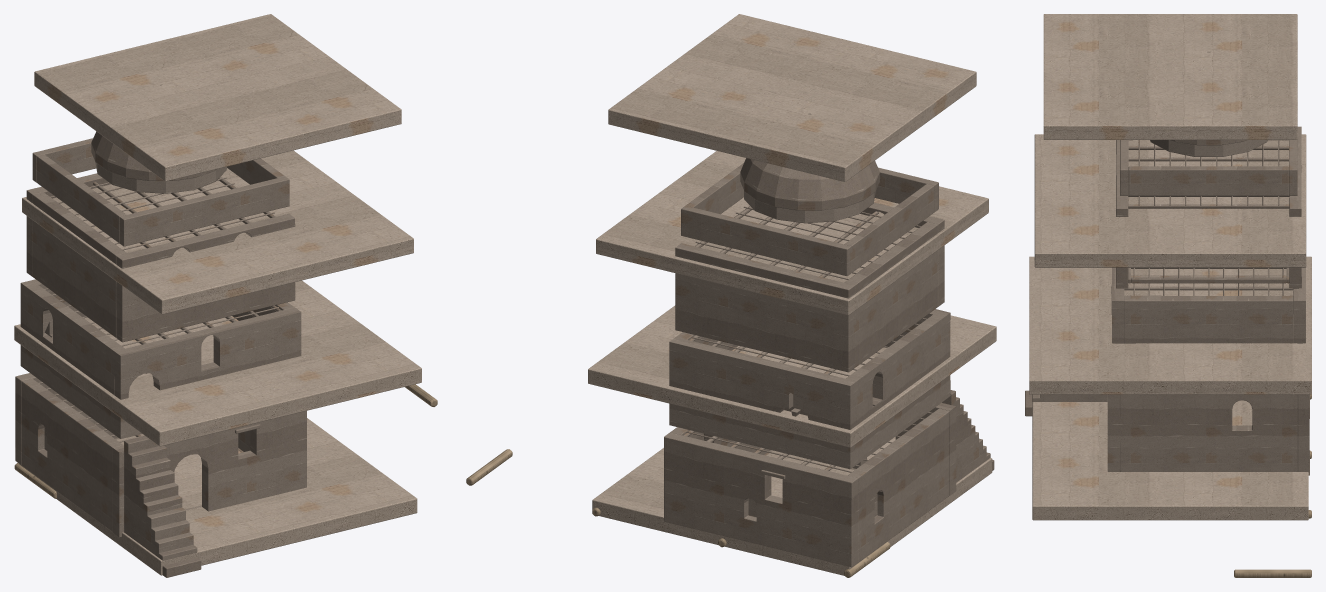
File: tower_16.glb
The picture shows the model from 3 angles, left to right: view 1: azimuth 30°, elevation 25°; view 2: azimuth 150°, elevation 25°; view 3: azimuth 270°, elevation 25°; orthographic projection. The views are drawn at different scales.
Parts seen in each view (by area): view 1: tower; view 2: tower; view 3: tower.
Boxes of the visible parts, x1,y1,x2,y2 form: tower: [14, 14, 437, 577]; tower: [466, 14, 996, 577]; tower: [1025, 14, 1311, 577].
Size of the model in its own units: 5.53 by 5.53 by 3.69.
Materials: 3 (3 with a texture image).
